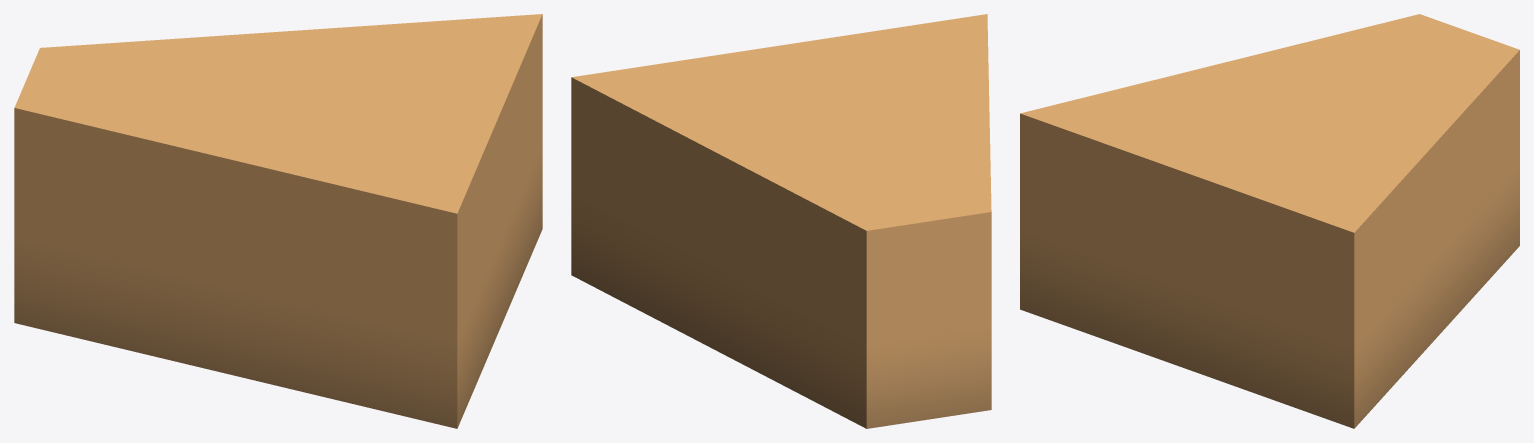
The model's file is PlatTri01.017.glb.
The picture shows the model from 3 angles, left to right: view 1: azimuth 30°, elevation 25°; view 2: azimuth 150°, elevation 25°; view 3: azimuth 270°, elevation 25°; orthographic projection. The views are drawn at different scales.
Parts seen in each view (by area): view 1: PlatTri01.017; view 2: PlatTri01.017; view 3: PlatTri01.017.
Boxes of the visible parts, x1,y1,x2,y2 form: PlatTri01.017: [14, 14, 542, 428]; PlatTri01.017: [571, 14, 991, 428]; PlatTri01.017: [1020, 14, 1519, 428].
Size of what is drawn, in the model's own units: 2.76 by 1.15 by 2.66.
Materials: 1 (1 with a texture image).
